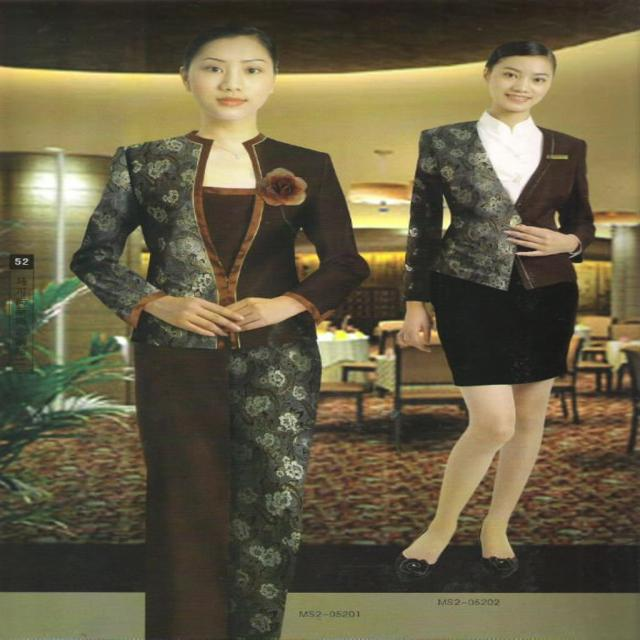nomask: (189, 38, 273, 118), (487, 56, 551, 111)
